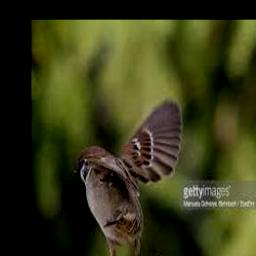Sparrow: (70, 97, 182, 256)
